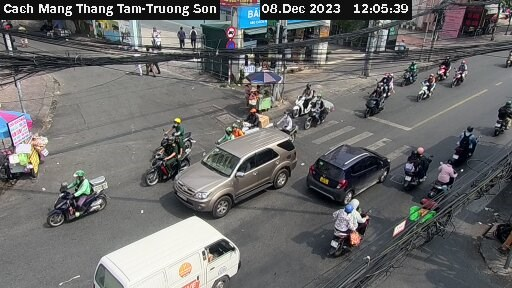car: (94, 216, 249, 288), (175, 126, 297, 214), (306, 143, 394, 199)
motorbike: (321, 199, 379, 258), (50, 173, 116, 220), (394, 143, 435, 189), (141, 144, 189, 183), (422, 151, 458, 202), (447, 122, 482, 162), (153, 116, 194, 148), (483, 91, 512, 132), (299, 100, 342, 126), (359, 88, 395, 116), (411, 73, 445, 101), (393, 59, 426, 83), (373, 73, 406, 95), (431, 55, 459, 80), (290, 88, 322, 109), (452, 63, 479, 87)
